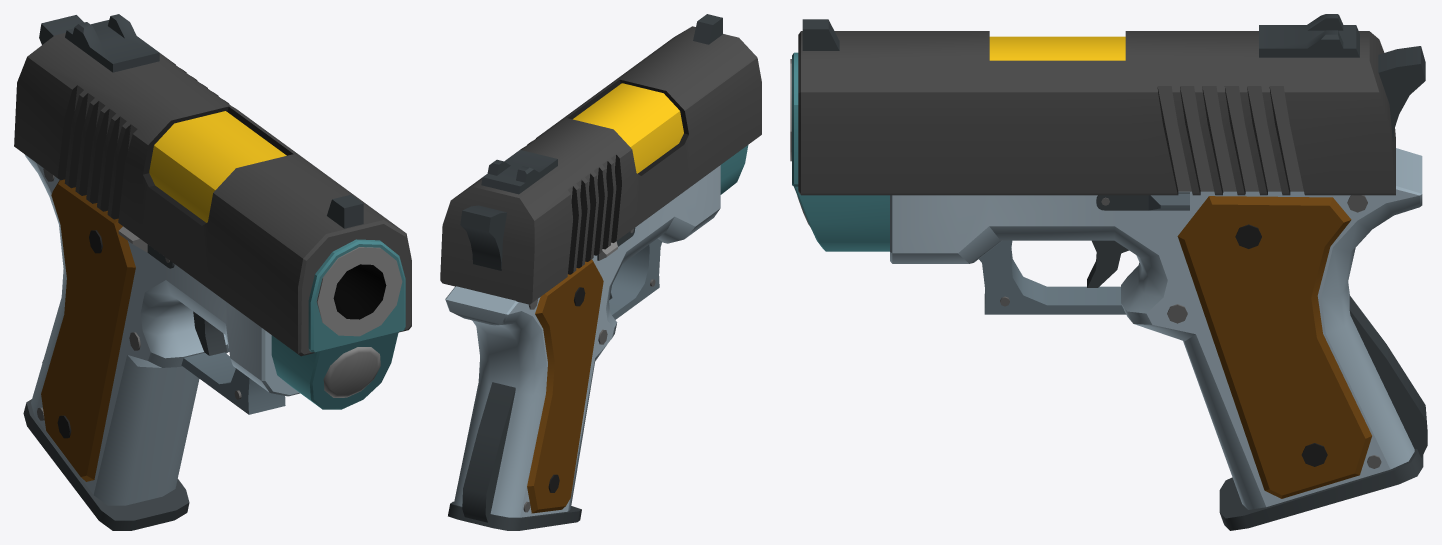
Rendered from Weapon_PISTOL_02_G01END.fbx.
3 renders of one model, left to right at view 1: azimuth 30°, elevation 25°; view 2: azimuth 150°, elevation 25°; view 3: azimuth 270°, elevation 25°, orthographic. The views are drawn at different scales.
Parts seen in each view (by area): view 1: Weapon_PISTOL_02_G01_END; view 2: Weapon_PISTOL_02_G01_END; view 3: Weapon_PISTOL_02_G01_END.
Boxes of the visible parts, <box> form: Weapon_PISTOL_02_G01_END: <box>14,14,411,530</box>; Weapon_PISTOL_02_G01_END: <box>440,14,761,530</box>; Weapon_PISTOL_02_G01_END: <box>790,14,1427,530</box>.
Bounding box in the file's own units: 1.18 × 4.6 × 5.43.
